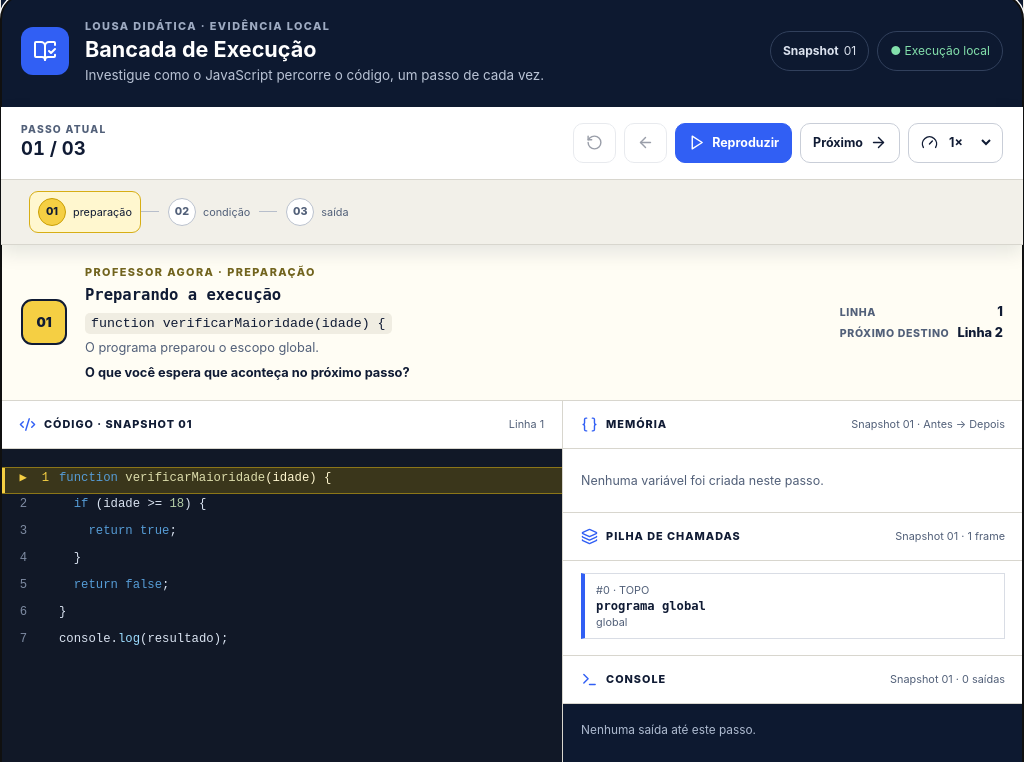
Bancada de Execução › relaciona linha ativa, Professor Agora, memória, pilha e console
The image size is (1024, 762).
Expected: the heading "Bancada de Execução" is shown, [85, 36, 316, 62]
Step 1. Click the button with aria-label "Próximo passo" → (850, 143), box [800, 123, 900, 163]
(page scrolled)
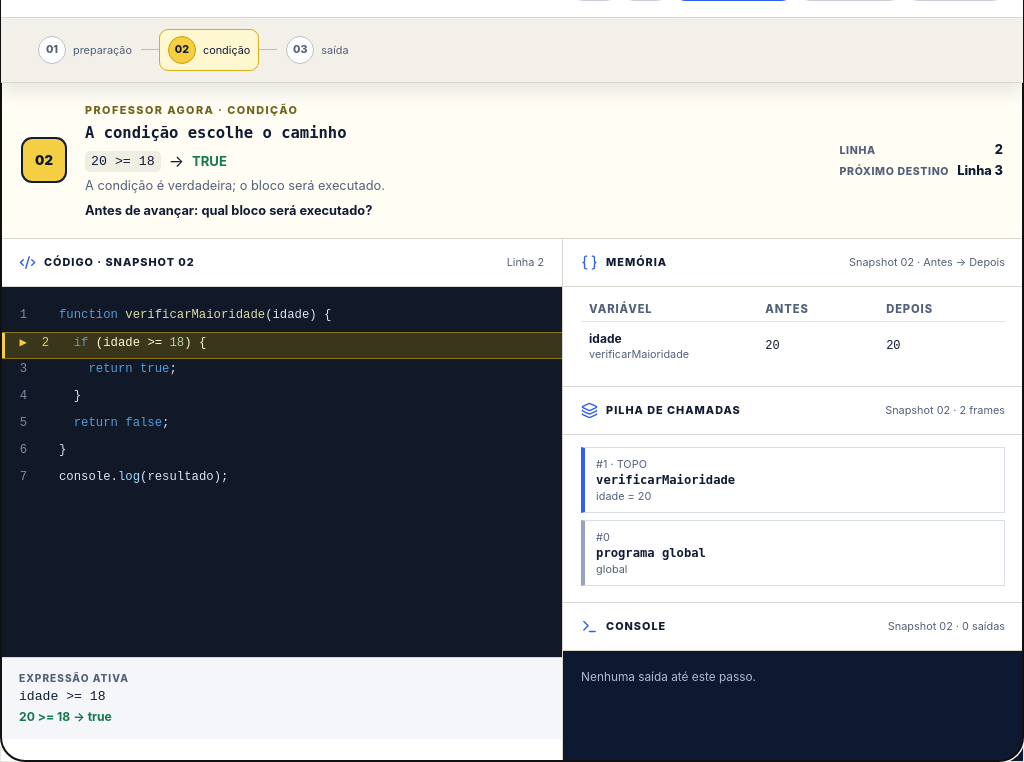
Result: the text "20 >= 18" is shown at [85, 151, 161, 172]
Result: the text "true" below "A condição escolhe o caminho" is shown at [192, 153, 227, 169]
Result: the text "A condição é verdadeira; o bloco será executado." is shown at [85, 178, 385, 193]
